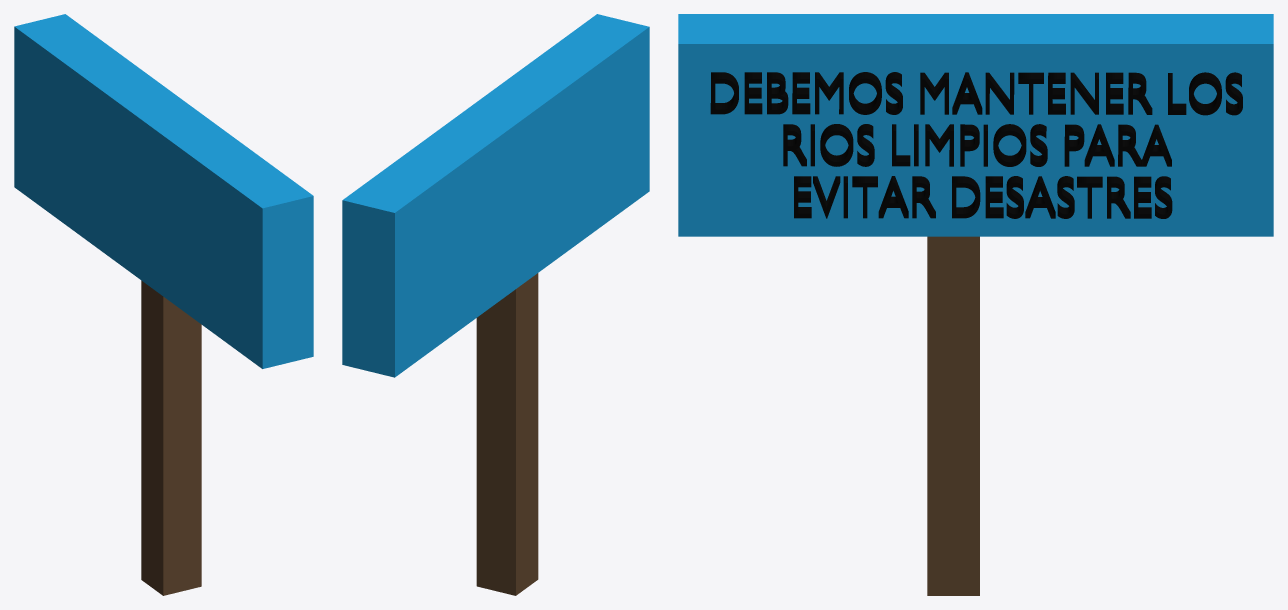
The model's file is LimpiarRiosLimpios.glb.
3 renders of one model, left to right at view 1: azimuth 30°, elevation 25°; view 2: azimuth 150°, elevation 25°; view 3: azimuth 270°, elevation 25°, orthographic. The views are drawn at different scales.
Visible parts, largest first — view 1: Cubo.010, Cubo.011; view 2: Cubo.010, Cubo.011; view 3: Cubo.010, Texto.004, Cubo.011.
Boxes of the visible parts, x1,y1,x2,y2 form: Cubo.010: (14,14,313,368); Cubo.011: (141,280,201,595); Cubo.010: (342,14,649,377); Cubo.011: (476,273,538,595); Cubo.010: (678,14,1273,236); Texto.004: (710,72,1242,218); Cubo.011: (927,236,979,595).
Bounding box in the file's own units: 0.5062 × 3.58 × 3.47.
